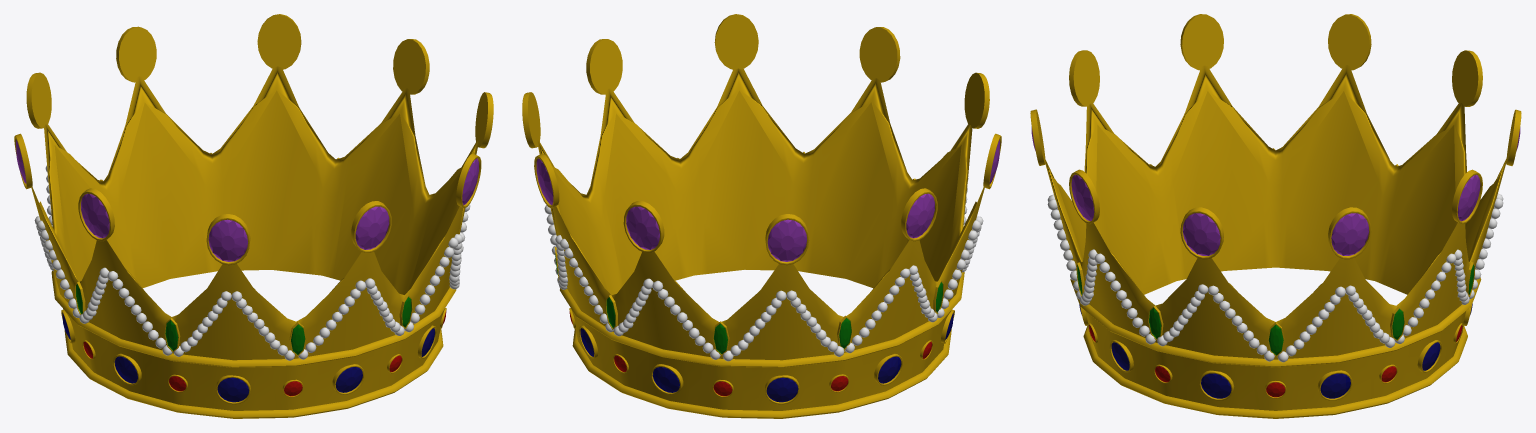
Rendered from Crown.fbx.
3 views of the same model, side by side, from view 1: azimuth 30°, elevation 25°; view 2: azimuth 150°, elevation 25°; view 3: azimuth 270°, elevation 25° (orthographic).
Visible parts, largest first — view 1: polySurface224; view 2: polySurface224; view 3: polySurface224.
Part boxes in pixels (bbox=[...]): polySurface224: bbox=[14, 14, 493, 418]; polySurface224: bbox=[522, 14, 1001, 418]; polySurface224: bbox=[1030, 14, 1521, 418].
Bounding box in the file's own units: 1.41 × 0.7519 × 1.47.
